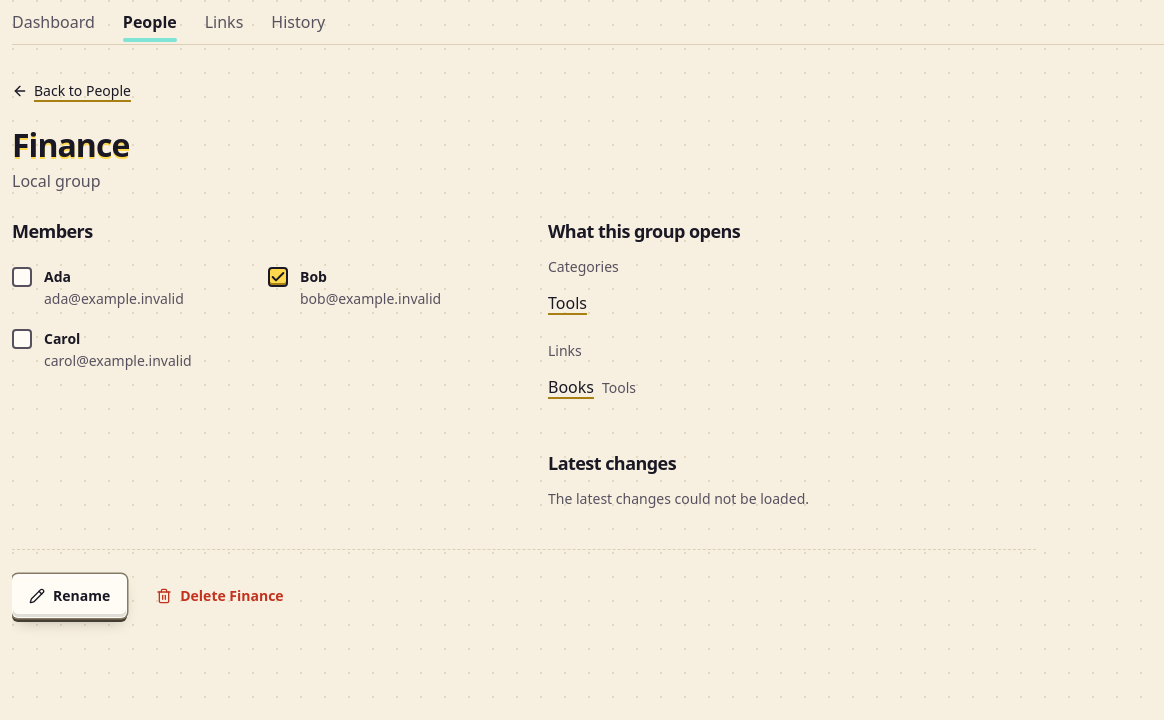
it: GroupPage › warns how much of the catalog a deleted group opened, then goes back to the list saying so
Expected: the heading "Finance" is shown, [12,125,129,165]
Click the button "Delete Finance" at (220, 596), box [139,574,301,618]
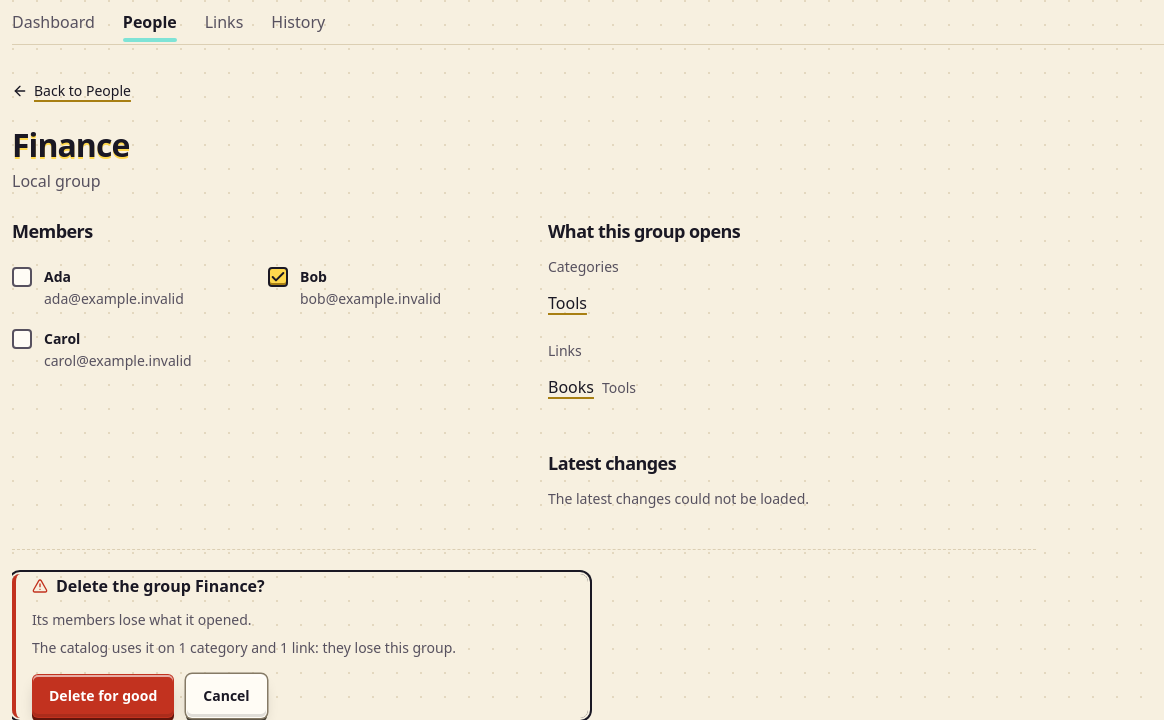
Expected: the element "Delete the group Finance?" shows "The catalog uses it on 1 category and 1 link: they lose this group.", [32,638,456,657]
Click the button "Delete for good" at (103, 696), box [32,674,174,718]
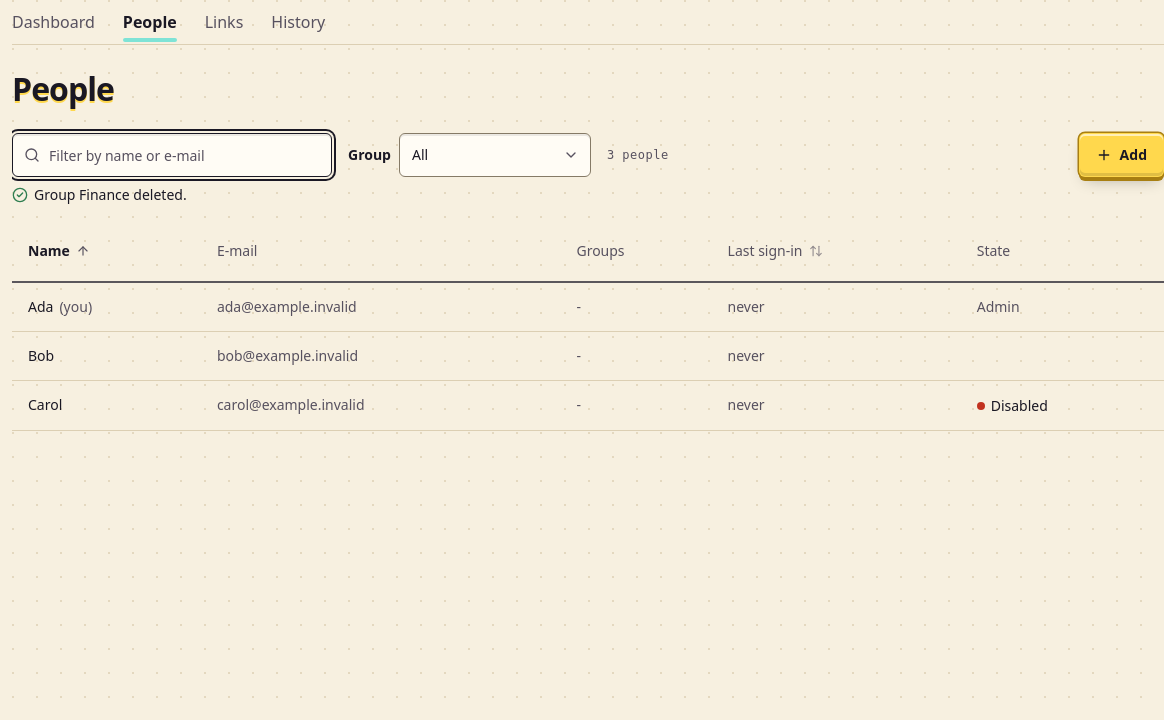
Expected: the element showing "Group Finance deleted." is shown, [12,185,187,204]
